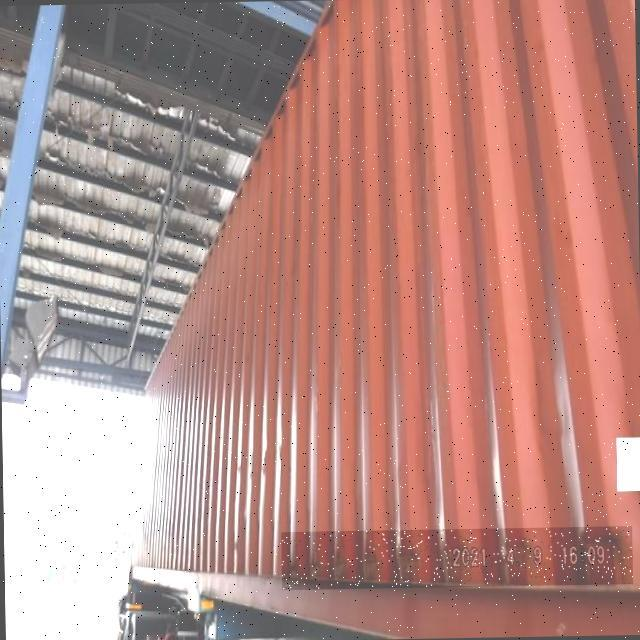Minor-Dent: (281, 526, 633, 590)
